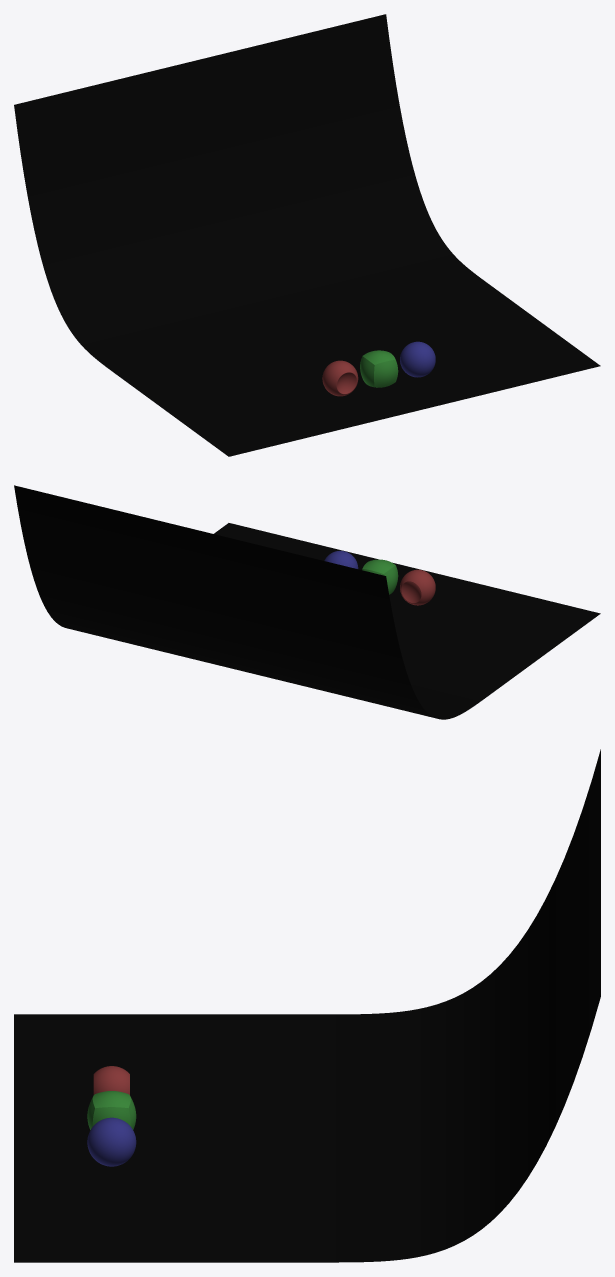
Rendered from shapes.obj.
3 renders of one model, top to bottom at view 1: azimuth 30°, elevation 25°; view 2: azimuth 150°, elevation 25°; view 3: azimuth 270°, elevation 25°, orthographic. The views are drawn at different scales.
Visible parts, largest first — view 1: floor, obj02, obj03, obj01; view 2: floor, obj01, obj02, obj03; view 3: floor, obj03, obj02, obj01.
Part boxes in pixels (x1=…): floor: x1=14, y1=14, x2=600, y2=456; obj02: x1=360, y1=350, x2=398, y2=387; obj03: x1=400, y1=341, x2=435, y2=377; obj01: x1=322, y1=360, x2=358, y2=396; floor: x1=14, y1=485, x2=600, y2=719; obj01: x1=400, y1=569, x2=435, y2=605; obj02: x1=362, y1=559, x2=398, y2=594; obj03: x1=324, y1=550, x2=358, y2=568; floor: x1=14, y1=749, x2=600, y2=1262; obj03: x1=87, y1=1117, x2=136, y2=1166; obj02: x1=87, y1=1091, x2=136, y2=1129; obj01: x1=93, y1=1066, x2=129, y2=1094.
Bounding box in the file's own units: 12 × 6 × 12.
